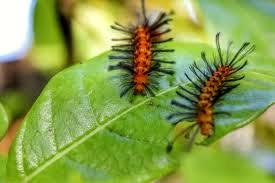Caterpillar: (184, 41, 239, 147), (114, 10, 164, 100)
